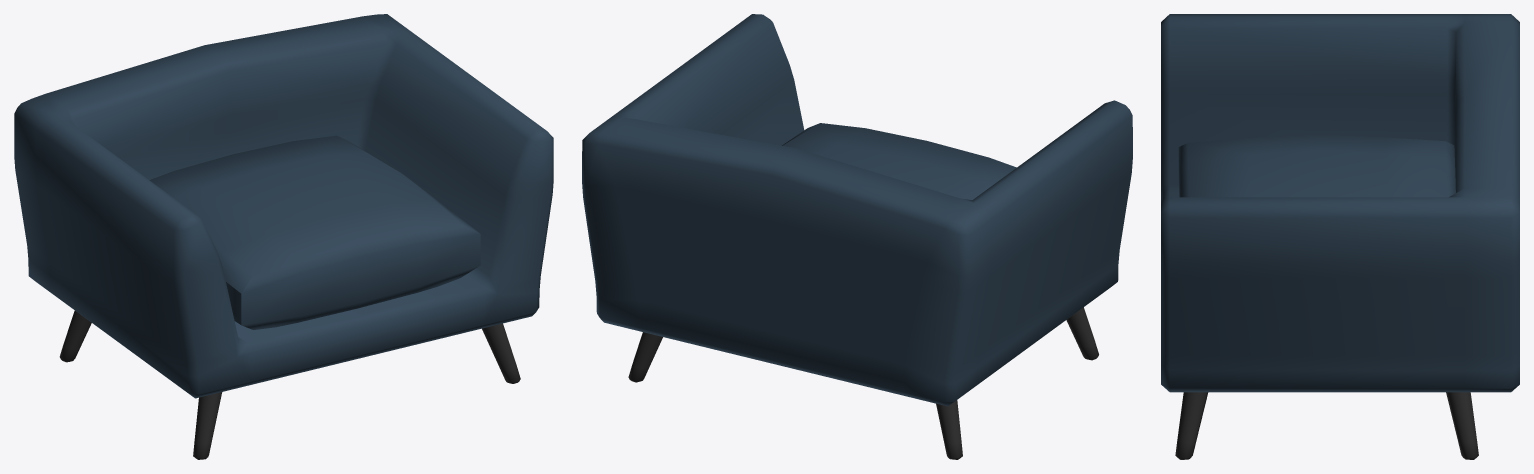
The model's file is CouchSmall.glb.
3 views of the same model, side by side, from view 1: azimuth 30°, elevation 25°; view 2: azimuth 150°, elevation 25°; view 3: azimuth 270°, elevation 25° (orthographic). The views are drawn at different scales.
Parts seen in each view (by area): view 1: CouchSmall; view 2: CouchSmall; view 3: CouchSmall.
Boxes of the visible parts, <box> form: CouchSmall: <box>14,14,553,459</box>; CouchSmall: <box>582,14,1132,459</box>; CouchSmall: <box>1161,14,1519,459</box>.
Size of the model in its own units: 1.16 by 0.7682 by 0.8862.
